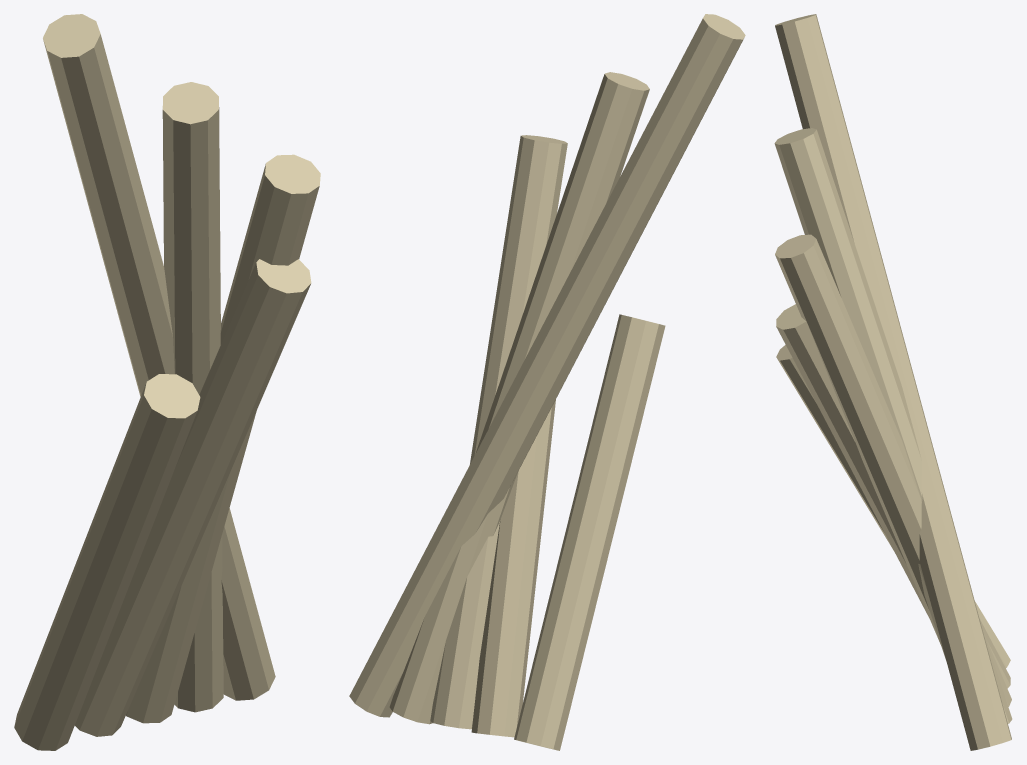
The model's file is roots.glb.
The picture shows the model from 3 angles, left to right: view 1: azimuth 30°, elevation 25°; view 2: azimuth 150°, elevation 25°; view 3: azimuth 270°, elevation 25°; orthographic projection. The views are drawn at different scales.
Parts seen in each view (by area): view 1: Pale root.015; view 2: Pale root.015; view 3: Pale root.015.
Boxes of the visible parts, x1,y1,x2,y2 form: Pale root.015: (14, 14, 320, 750); Pale root.015: (349, 14, 745, 750); Pale root.015: (774, 14, 1012, 750).
Bounding box in the file's own units: 0.3451 × 0.783 × 0.2675.
